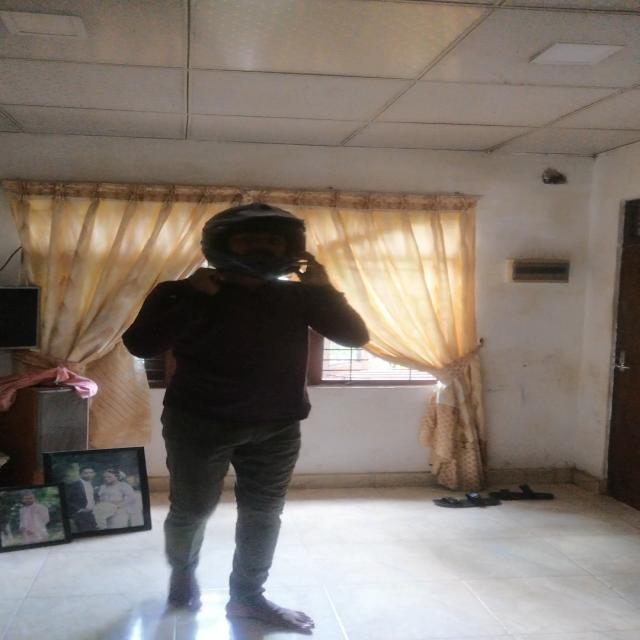Helmet_Wearer: (184, 202, 324, 286)
Person: (126, 200, 358, 638)
